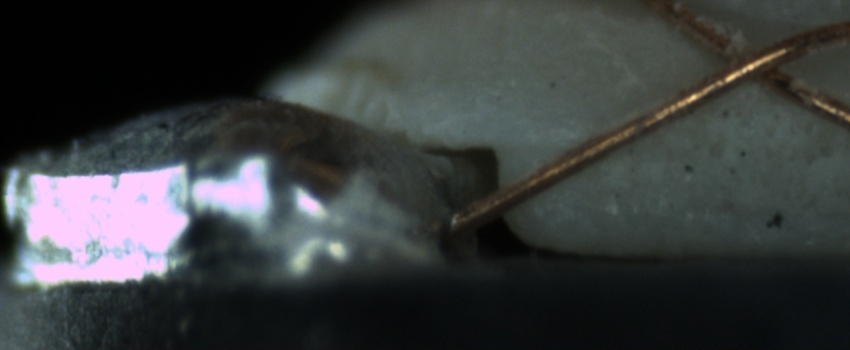CL: (691, 31, 820, 94)
